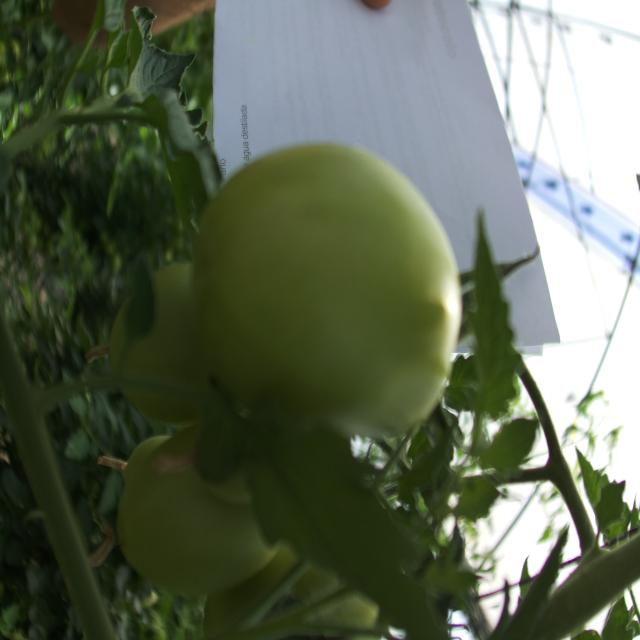yesil: (93, 139, 486, 625)
